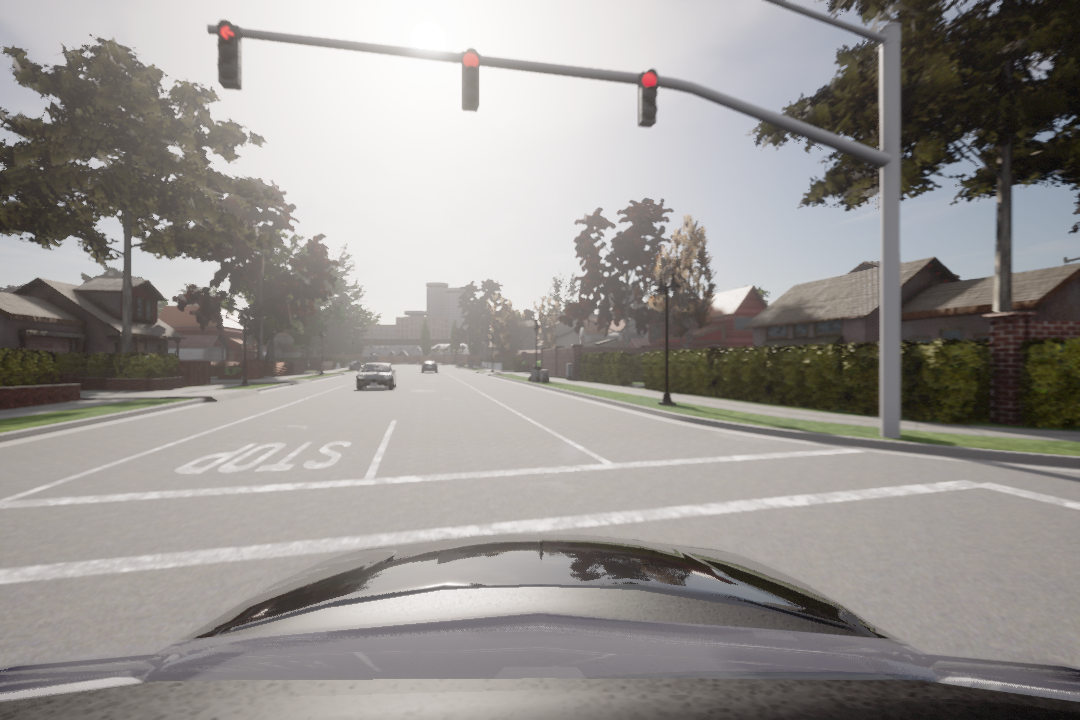TrafficLight: (207, 16, 247, 87), (454, 48, 487, 118), (638, 58, 662, 130)
